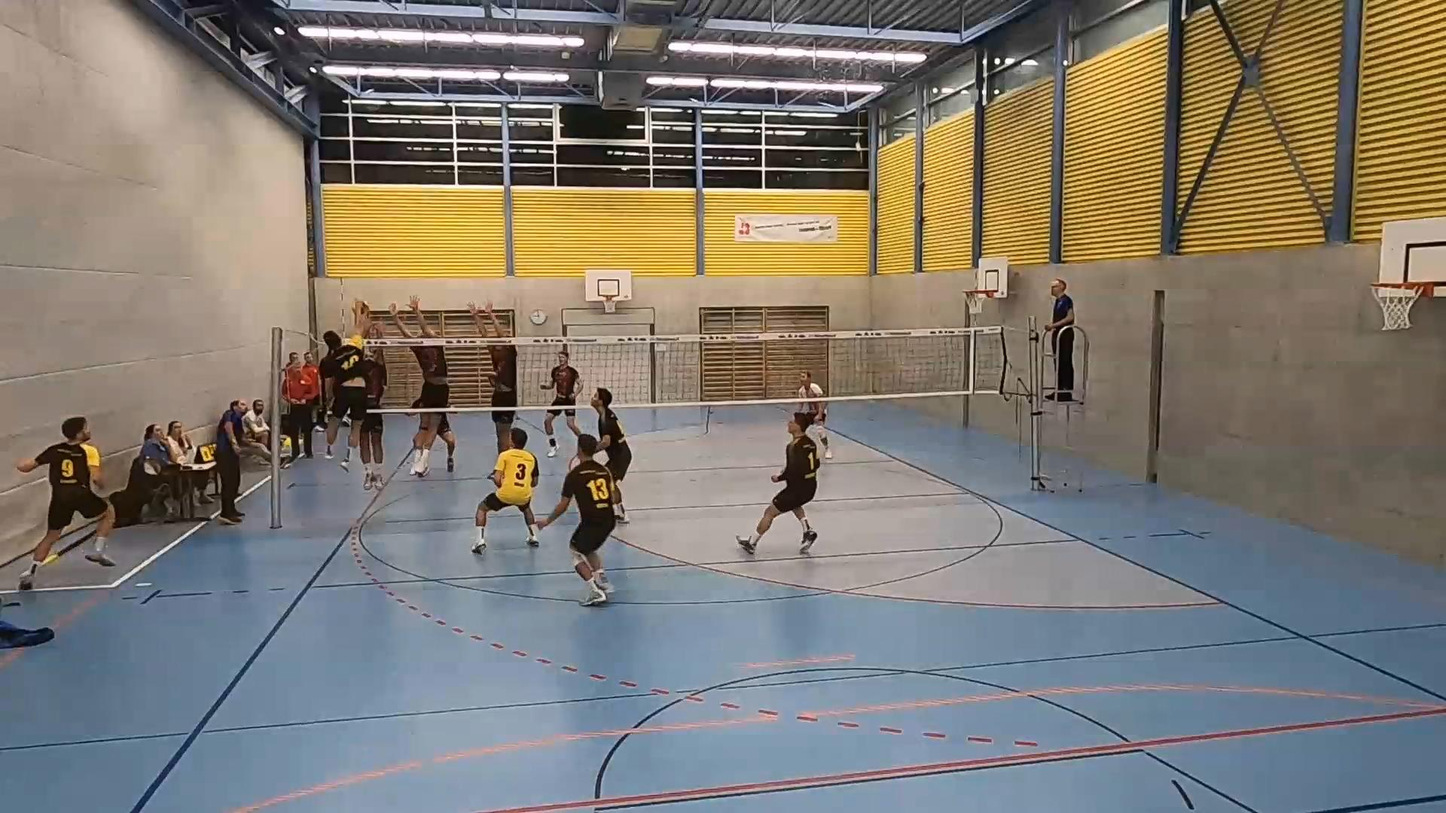attacco: (309, 304, 385, 484)
muro: (387, 287, 454, 492), (467, 292, 525, 486), (345, 287, 392, 500)
